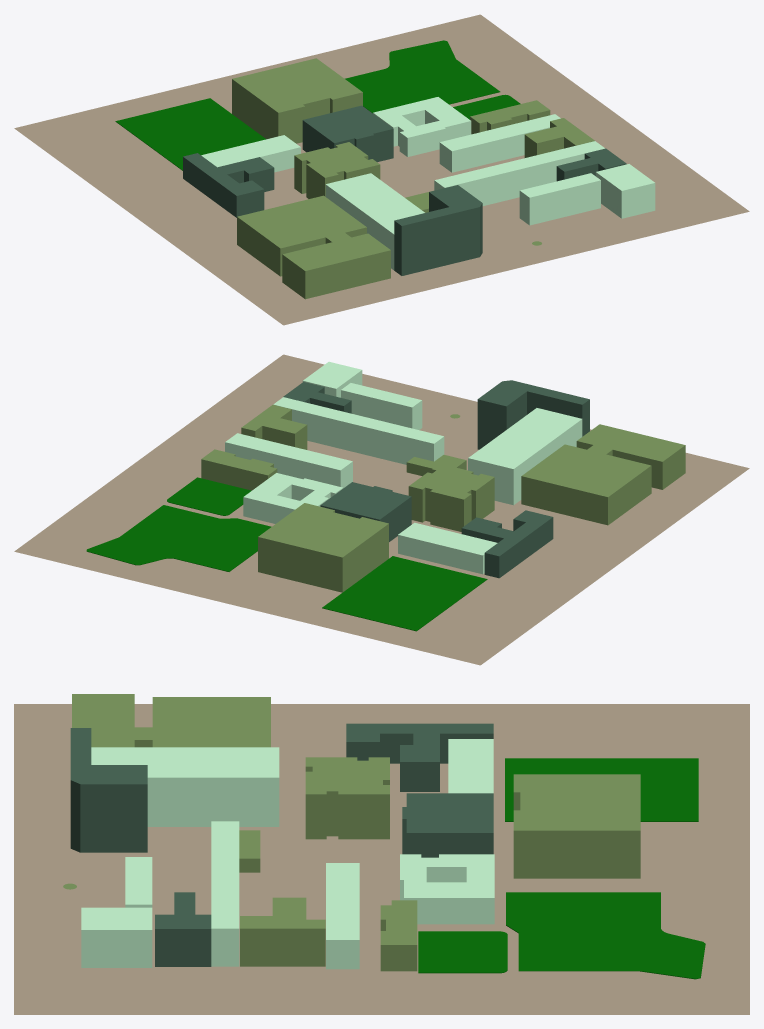
The model's file is campus.glb.
3 views of the same model, one above another, from view 1: azimuth 30°, elevation 25°; view 2: azimuth 150°, elevation 25°; view 3: azimuth 270°, elevation 25° (orthographic). The views are drawn at different scales.
Parts seen in each view (by area): view 1: Piso, Edificio-7, Polideportivo, Campo Beisbol, CIDTE, Campo FIME, Edificio-2, Edificio-8, Edificio-5, Edificio-4, Biblioteca, Edificio-3 (+8 smaller); view 2: Piso, Edificio-7, Polideportivo, Campo Beisbol, Campo FIME, Edificio-2, Edificio-5, Edificio-6, CIDTE, Edificio-8, Edificio-3, Edificio-12 (+9 smaller); view 3: Piso, Campo Beisbol, Polideportivo, Edificio-5, Edificio-7, CIDTE, Edificio-6, Campo FIME, Edificio-4, Edificio-8, Biblioteca, Edificio-9 (+9 smaller).
Part boxes in pixels (left/top/right/bottom): Piso: left=14, top=14, right=749, bottom=325; Edificio-7: left=237, top=195, right=390, bottom=299; Polideportivo: left=232, top=58, right=362, bottom=143; Campo Beisbol: left=345, top=40, right=500, bottom=113; CIDTE: left=394, top=185, right=482, bottom=275; Campo FIME: left=115, top=98, right=265, bottom=170; Edificio-2: left=434, top=141, right=604, bottom=205; Edificio-8: left=183, top=153, right=274, bottom=217; Edificio-5: left=325, top=173, right=424, bottom=270; Edificio-4: left=373, top=97, right=471, bottom=156; Biblioteca: left=302, top=105, right=393, bottom=162; Edificio-3: left=439, top=114, right=560, bottom=172; Piso: left=14, top=354, right=749, bottom=665; Edificio-7: left=521, top=424, right=685, bottom=525; Polideportivo: left=258, top=503, right=388, bottom=592; Campo Beisbol: left=86, top=505, right=271, bottom=571; Campo FIME: left=322, top=556, right=487, bottom=631; Edificio-2: left=273, top=397, right=444, bottom=464; Edificio-5: left=468, top=408, right=582, bottom=505; Edificio-6: left=408, top=463, right=494, bottom=531; CIDTE: left=477, top=380, right=589, bottom=449; Edificio-8: left=461, top=510, right=553, bottom=578; Edificio-3: left=225, top=433, right=352, bottom=487; Edificio-12: left=398, top=522, right=497, bottom=574; Piso: left=14, top=704, right=749, bottom=1014; Campo Beisbol: left=506, top=892, right=705, bottom=979; Polideportivo: left=513, top=774, right=640, bottom=878; Edificio-5: left=91, top=747, right=279, bottom=826; Edificio-7: left=72, top=694, right=270, bottom=747; CIDTE: left=70, top=728, right=147, bottom=852; Edificio-6: left=305, top=757, right=389, bottom=839; Campo FIME: left=505, top=758, right=698, bottom=821; Edificio-4: left=400, top=854, right=494, bottom=924; Edificio-8: left=346, top=723, right=493, bottom=791; Biblioteca: left=402, top=793, right=493, bottom=857; Edificio-9: left=240, top=897, right=325, bottom=966.
Bounding box in the file's own units: 110 × 11.32 × 110.
